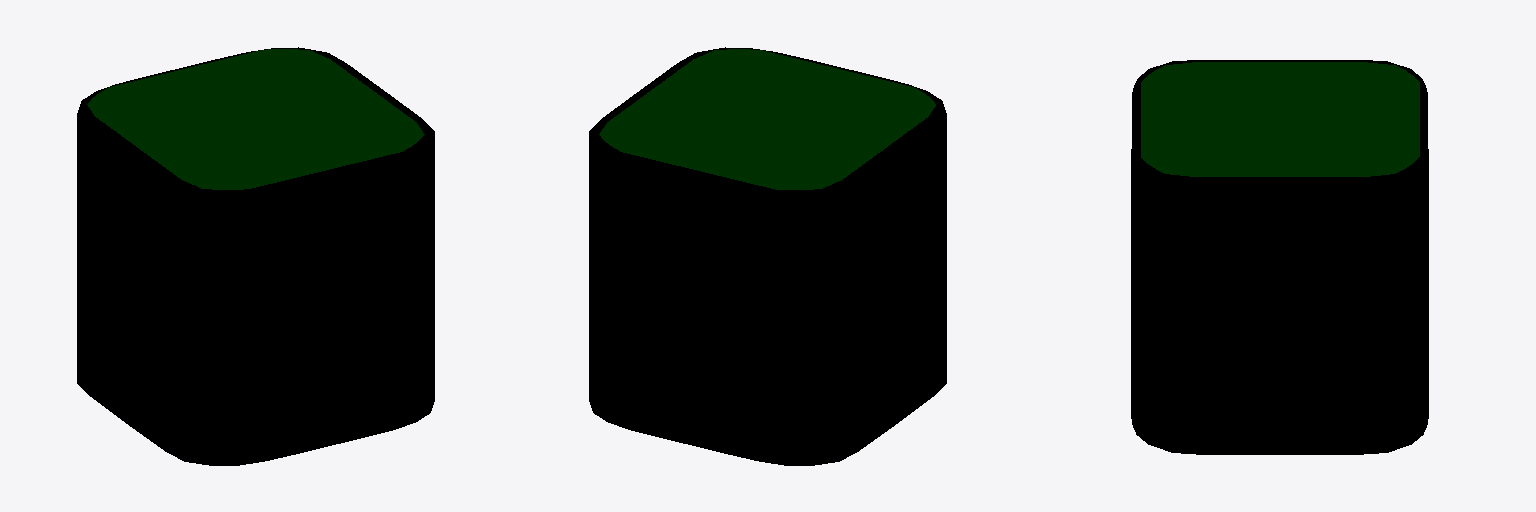
The model's file is centerG.obj.
The picture shows the model from 3 angles: view 1: azimuth 30°, elevation 25°; view 2: azimuth 150°, elevation 25°; view 3: azimuth 270°, elevation 25°; orthographic projection.
Parts seen in each view (by area): view 1: BasicCenter_Plane.007, CenterSide_Plane.010; view 2: BasicCenter_Plane.007, CenterSide_Plane.010; view 3: BasicCenter_Plane.007, CenterSide_Plane.010.
Part boxes in pixels (x1,y1,x2,y2): BasicCenter_Plane.007: (77,47,434,465); CenterSide_Plane.010: (87,49,424,189); BasicCenter_Plane.007: (589,47,946,465); CenterSide_Plane.010: (599,49,935,189); BasicCenter_Plane.007: (1131,60,1428,454); CenterSide_Plane.010: (1141,62,1419,176).
Bounding box in the file's own units: 0.18 × 0.1815 × 0.18.